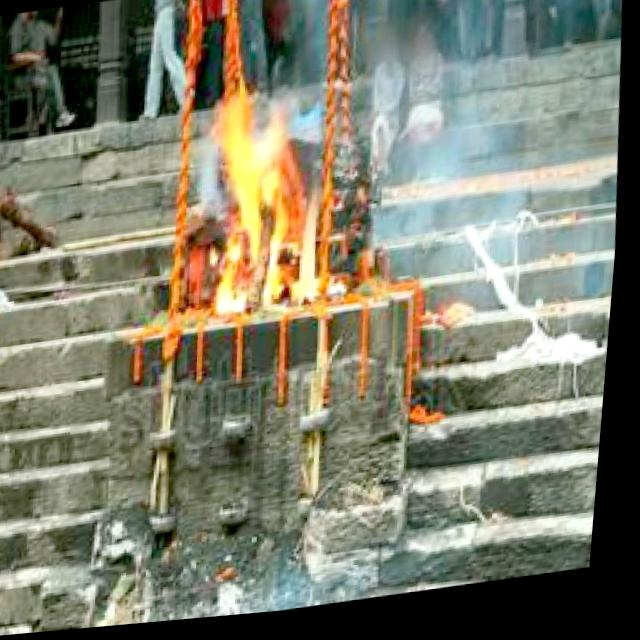Fire: (200, 81, 360, 330)
